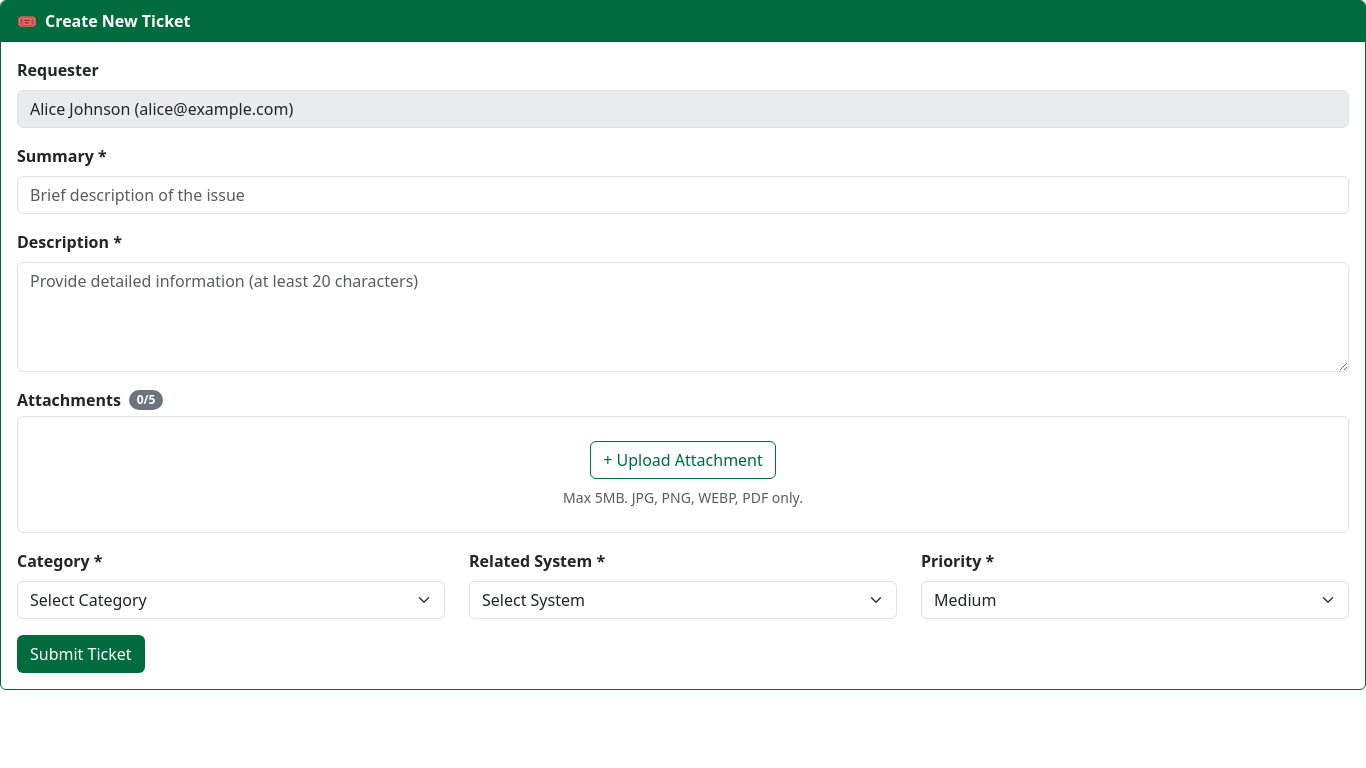
Test case: CreateTicket Component › should submit successfully when form is valid
In the field with test id "input-summary": x=683, y=195 [17,176,1349,214], type "Valid summary text"
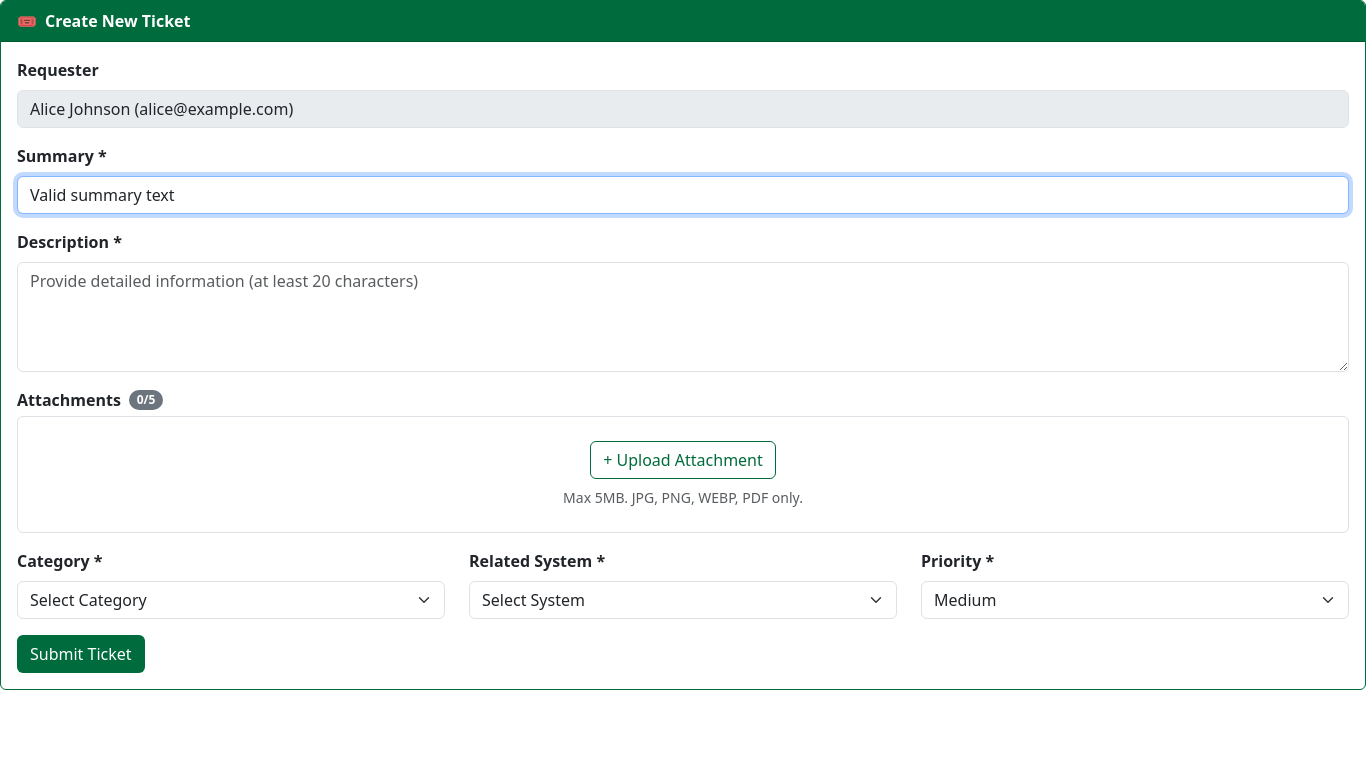
In the text box with test id "input-description": x=683, y=317 [17,262,1349,372], type "This is a valid description that has more than twenty characters."
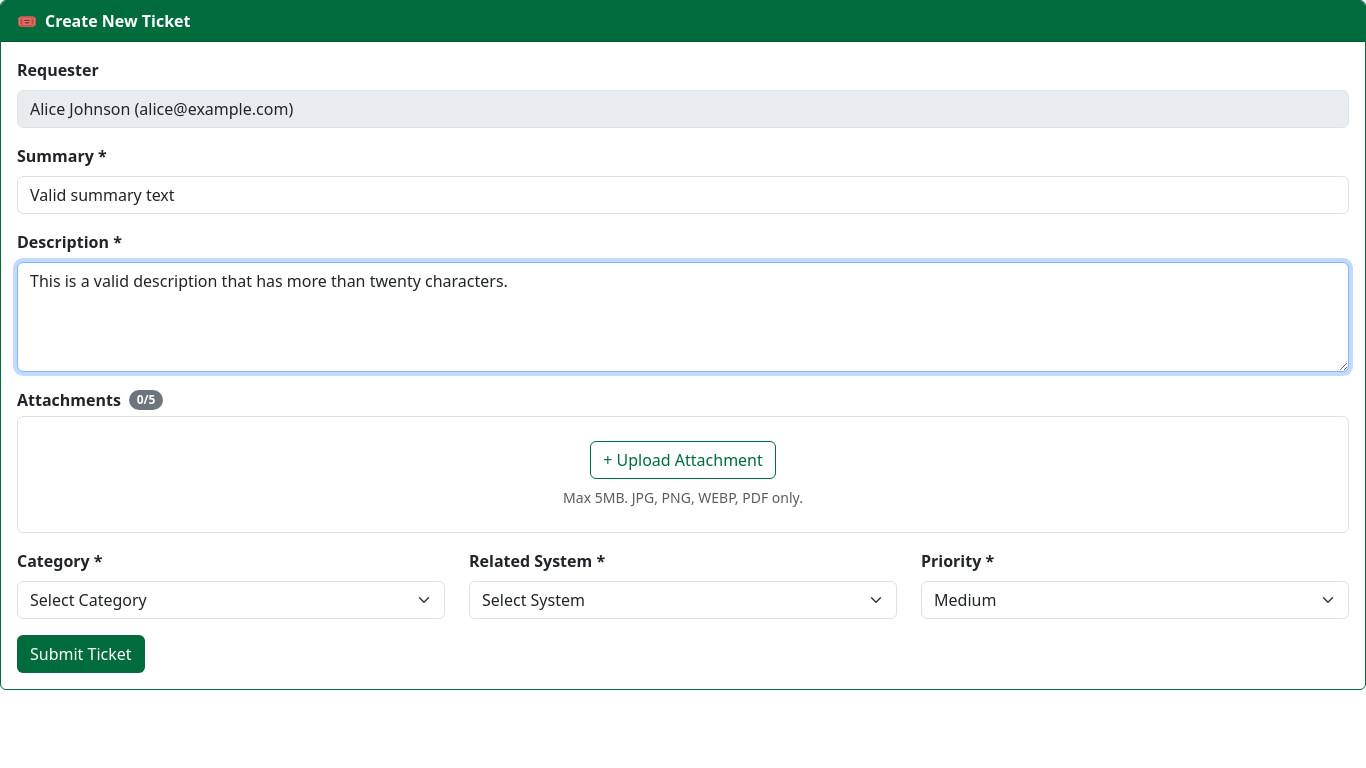
Select "Test Item" in the dropdown with test id "select-category": x=231, y=600 [17,581,445,619]
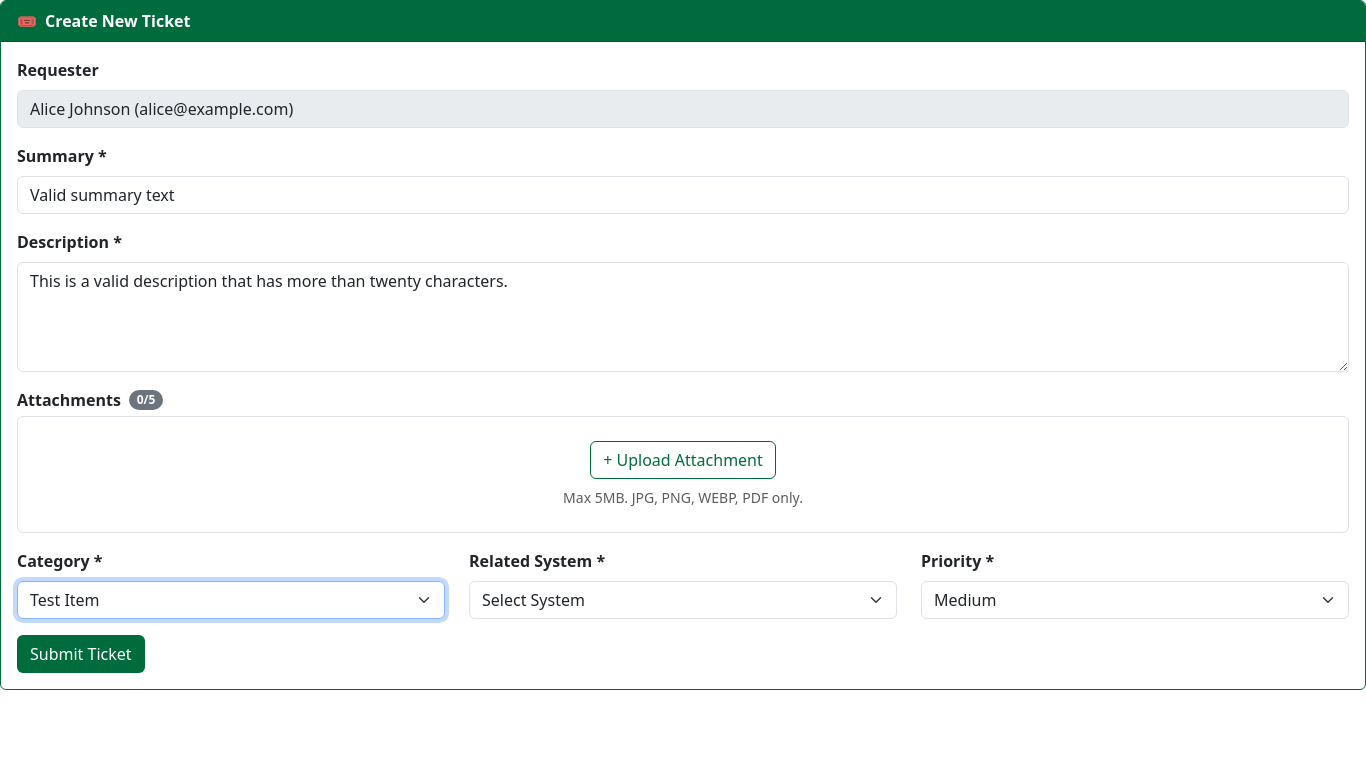
Select "Test Item" in the dropdown with test id "select-system": x=683, y=600 [469,581,897,619]
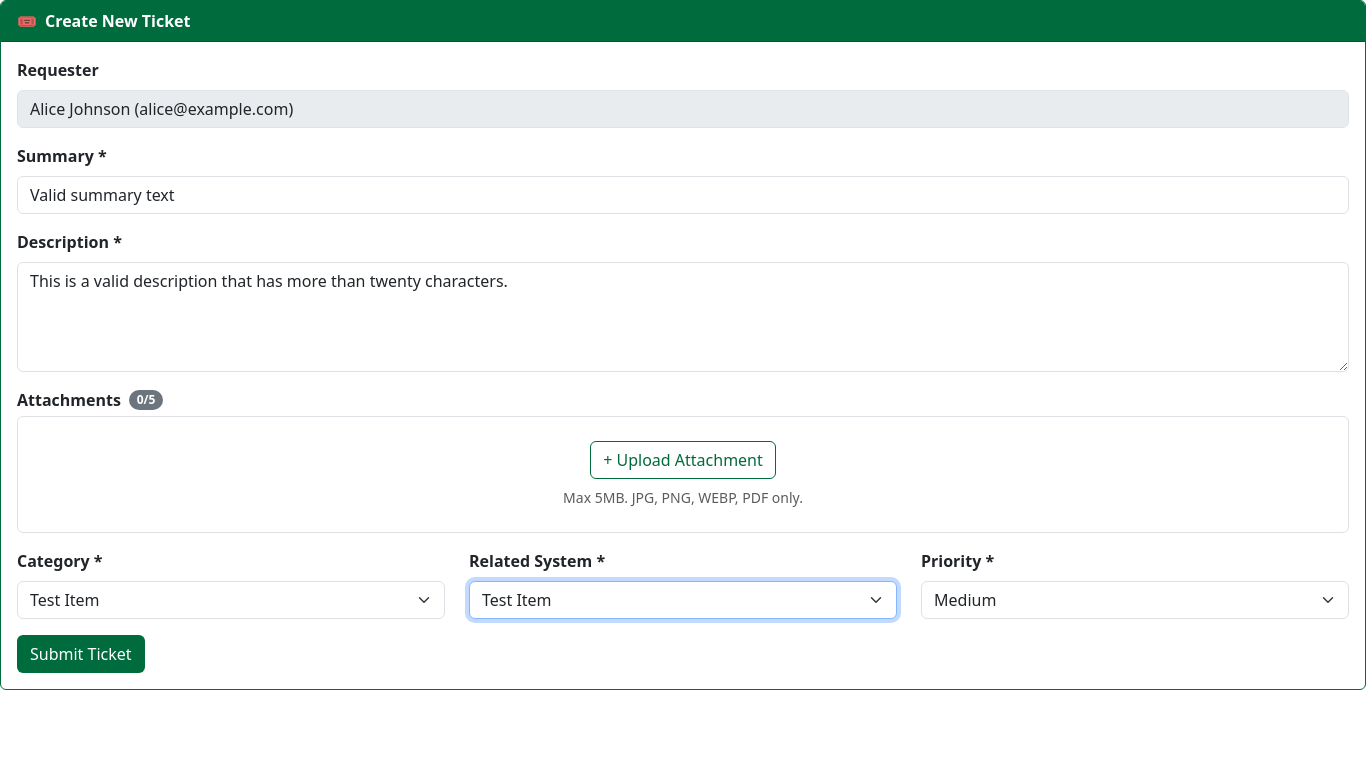
Click the button with test id "submit-ticket-btn": x=81, y=654 [17,635,145,673]
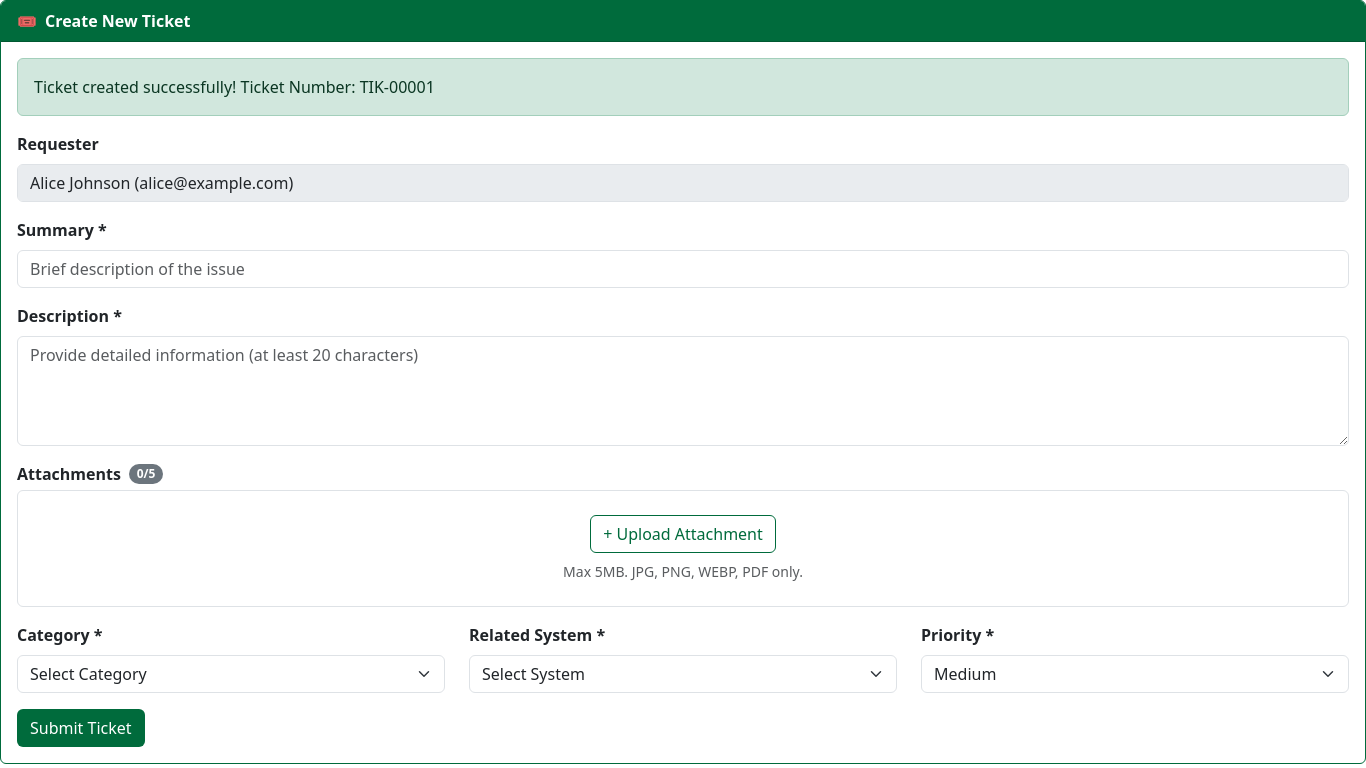
expect the message with test id "success-banner" reads "Ticket created successfully! Ticket Number: TIK-00001": met, box [34,76,435,98]
